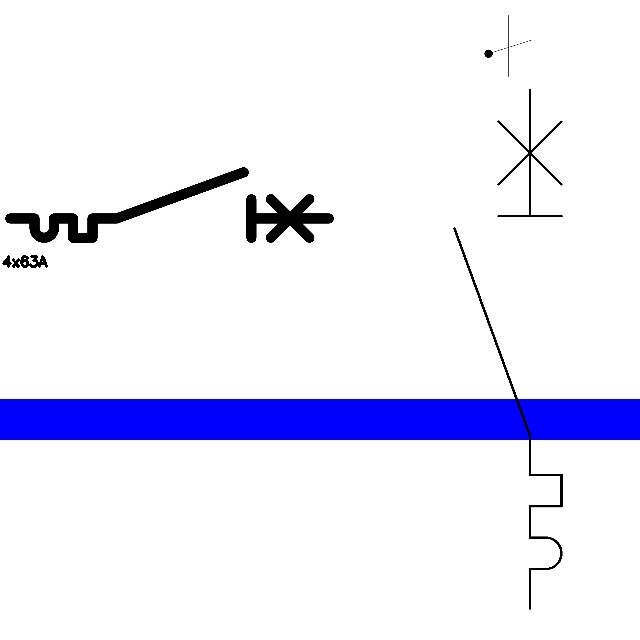interruptor_termomagnetico: (441, 76, 575, 622), (2, 164, 337, 246)
